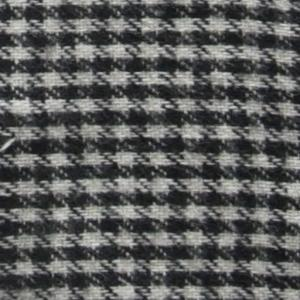Damage: (1, 124, 20, 161)
